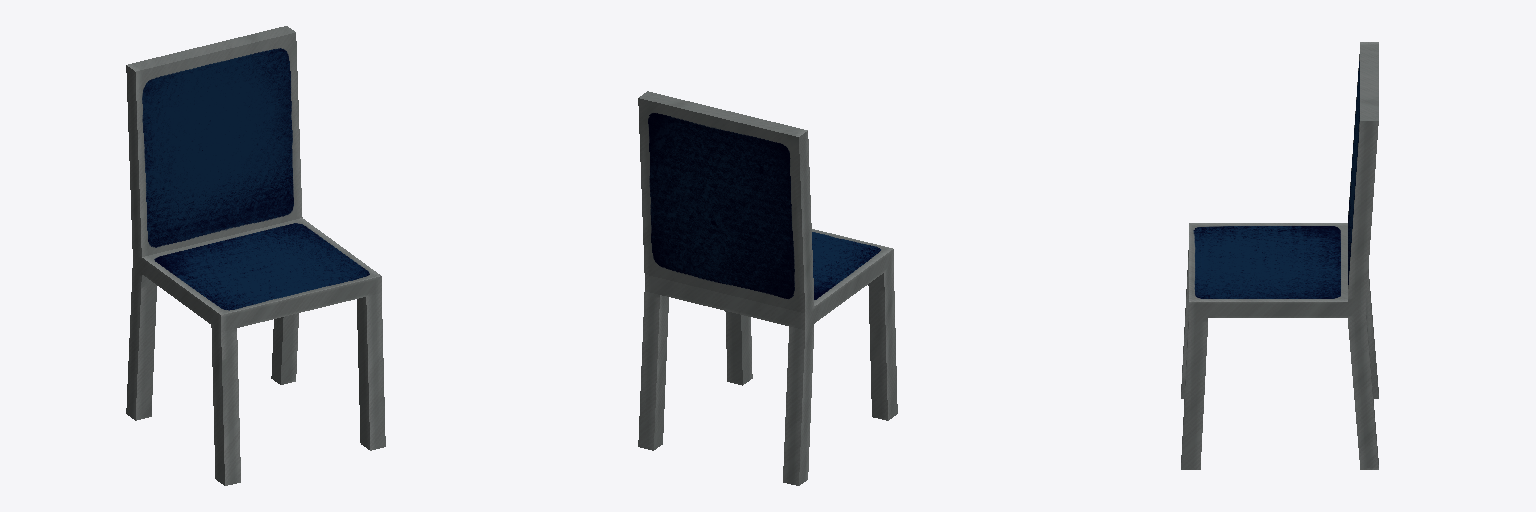
3 views of the same model, side by side, from view 1: azimuth 30°, elevation 25°; view 2: azimuth 150°, elevation 25°; view 3: azimuth 270°, elevation 25° (orthographic).
Parts seen in each view (by area): view 1: chair; view 2: chair; view 3: chair.
Part boxes in pixels (left/top/right/bottom): chair: left=126, top=26, right=385, bottom=485; chair: left=638, top=91, right=897, bottom=485; chair: left=1181, top=42, right=1378, bottom=469.
Size of the model in its own units: 0.7029 by 1.46 by 0.749.
Materials: 1 (1 with a texture image).